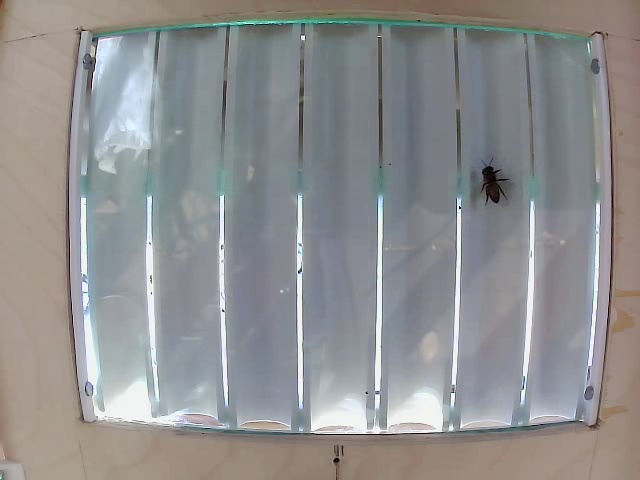bee: (475, 150, 508, 216)
